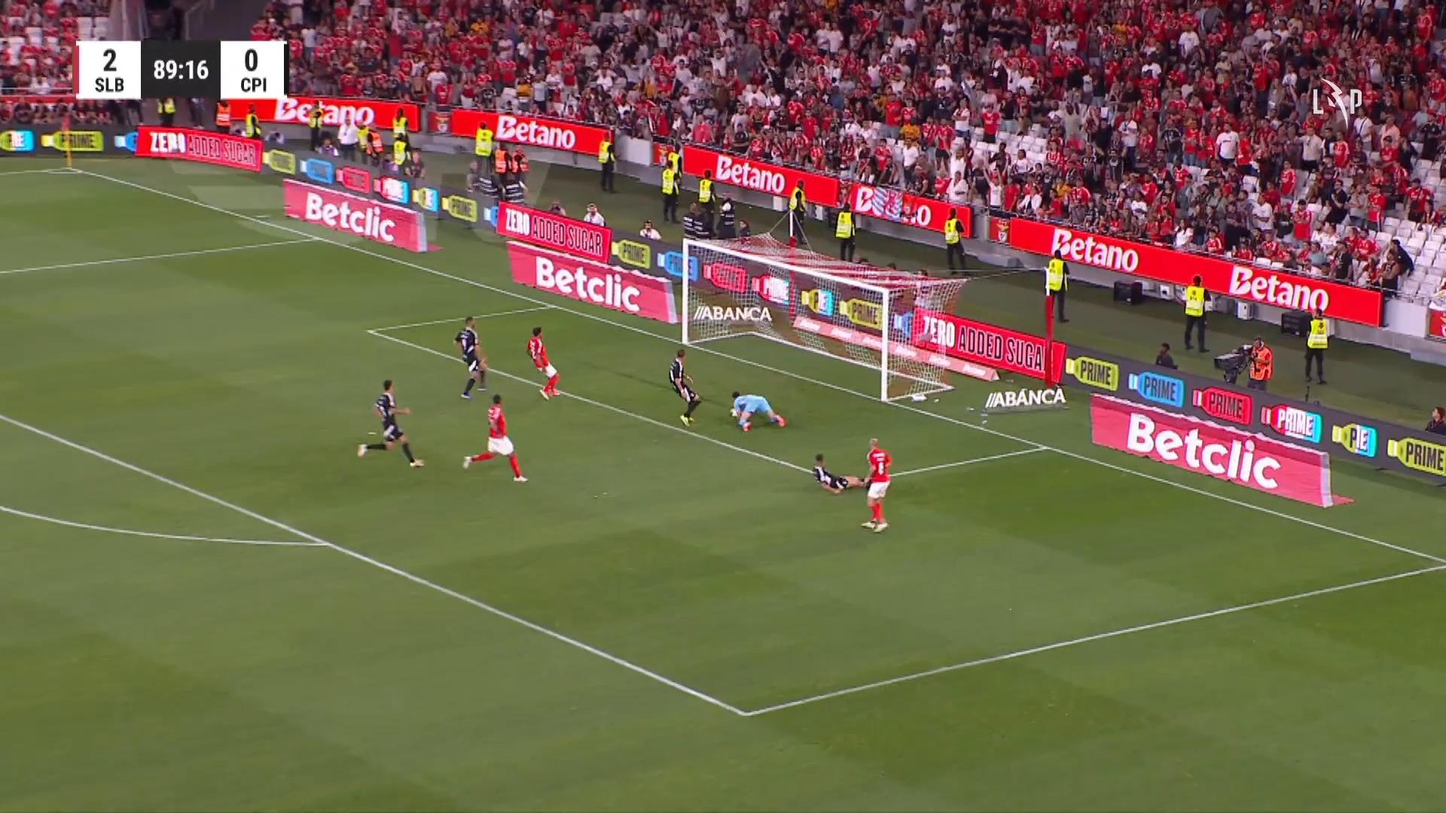ball: (742, 422, 751, 431)
goalkeeper: (728, 390, 787, 432)
player: (355, 379, 425, 468), (461, 393, 529, 483), (860, 437, 892, 532), (453, 315, 489, 399), (526, 325, 561, 400), (668, 348, 701, 427), (811, 452, 867, 495)
